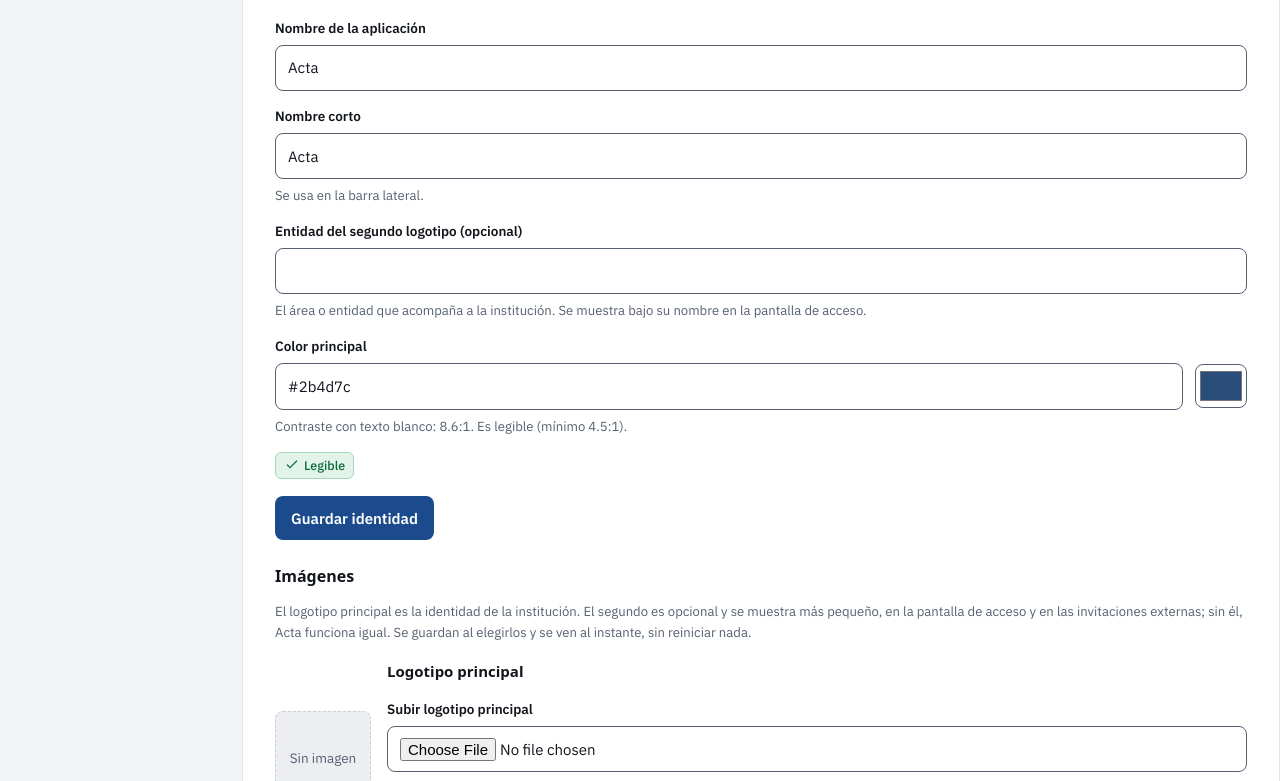
Test: el color se explica con palabras y la vista previa lo usa; no se admite SVG
(page scrolled)
Replace the text in the field labelled "Color principal" with "#eeeeee" at (729, 387), box [275,363,1183,410]
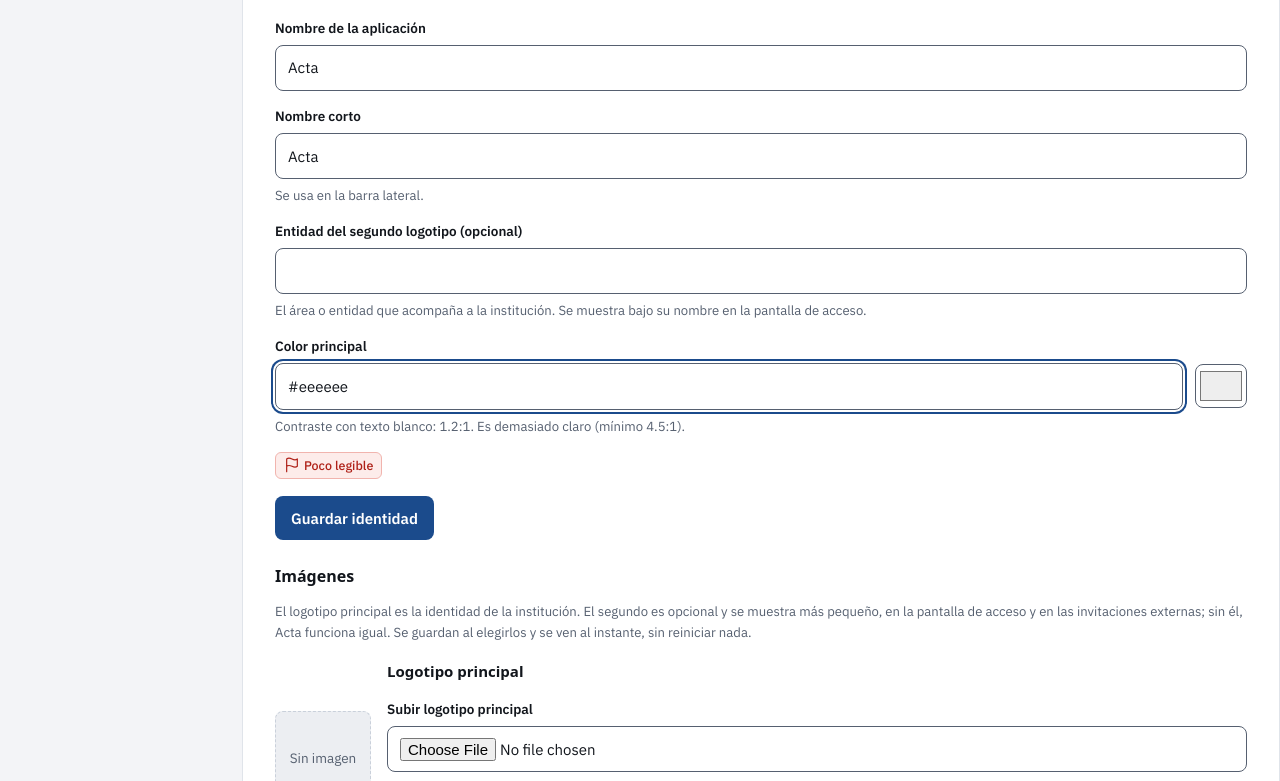
Check: the text "demasiado claro" is shown, box [275,418,685,435]
Replace the text in the field labelled "Color principal" with "#1b4b8c" at (729, 387), box [275,363,1183,410]
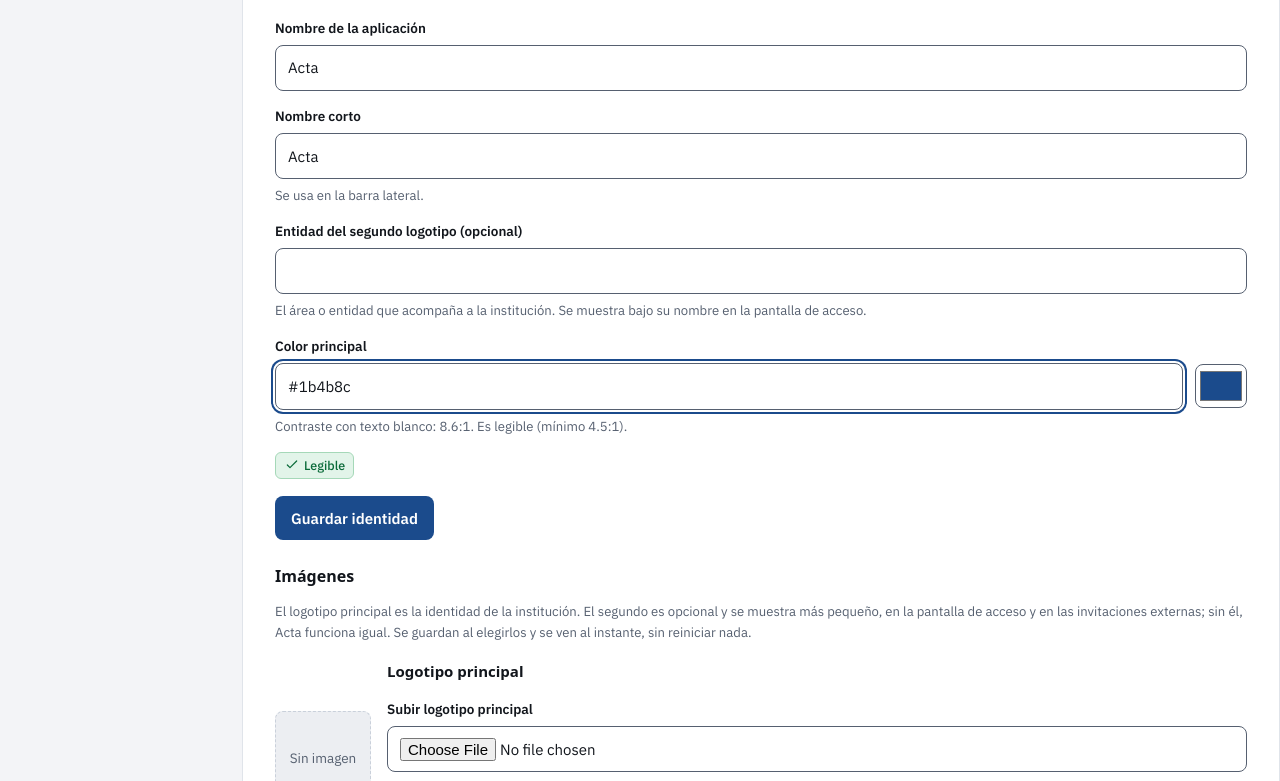
Check: the text "Es legible" is shown, box [275,418,627,435]
Click the button "Guardar identidad" at (354, 518), box [275,496,434,540]
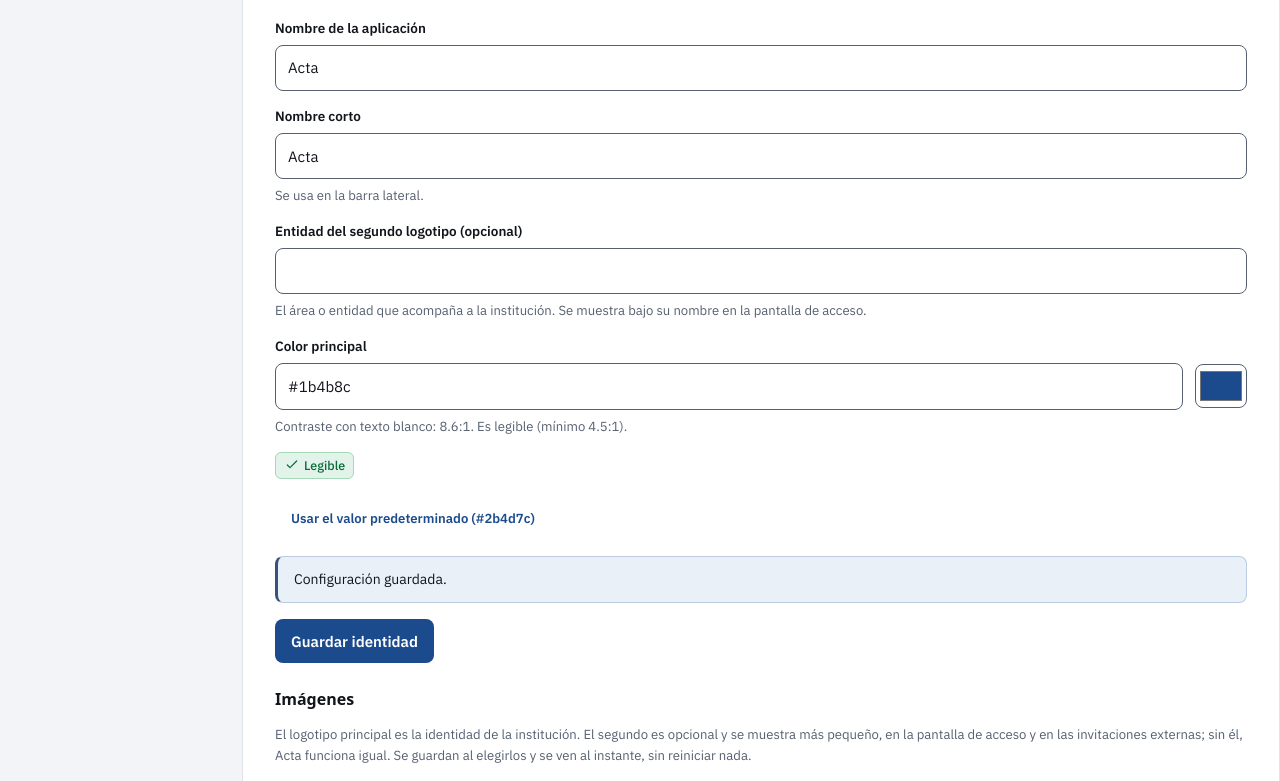
Check: the text "Configuración guardada." is shown, box [275,556,1247,603]
